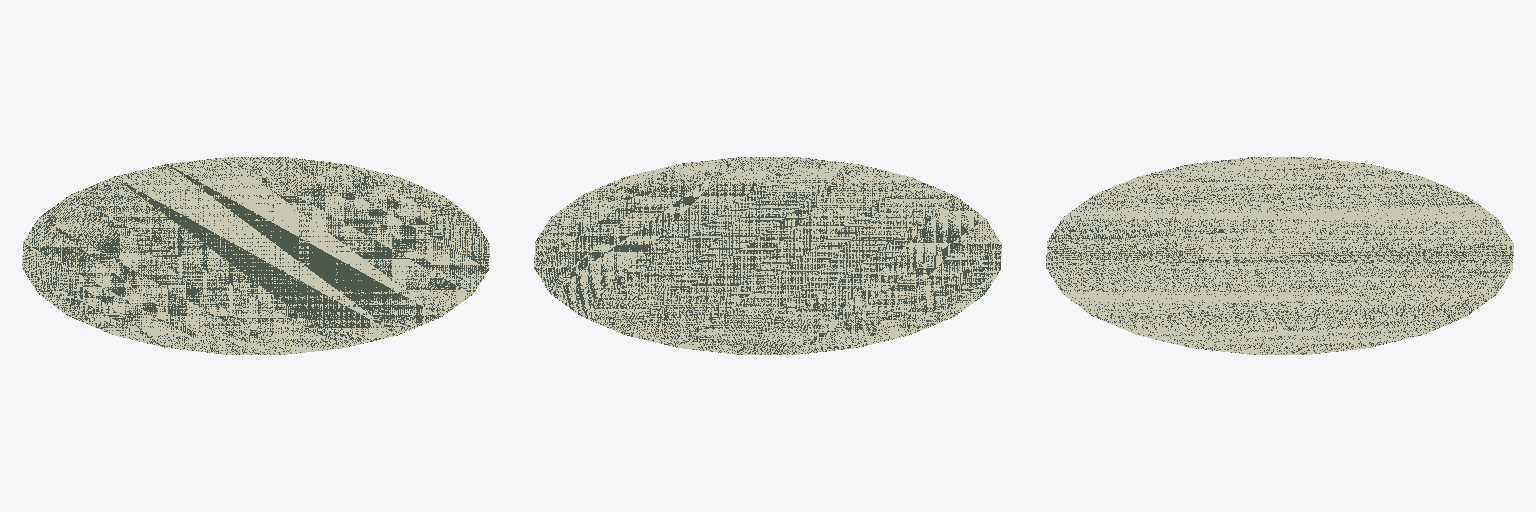
The model's file is Rug.obj.
The picture shows the model from 3 angles: view 1: azimuth 30°, elevation 25°; view 2: azimuth 150°, elevation 25°; view 3: azimuth 270°, elevation 25°; orthographic projection.
Visible parts, largest first — view 1: Mesh1 Model; view 2: Mesh1 Model; view 3: Mesh1 Model.
Boxes of the visible parts, <box> form: Mesh1 Model: <box>22,157,489,354</box>; Mesh1 Model: <box>534,157,1001,354</box>; Mesh1 Model: <box>1046,157,1513,354</box>.
Bounding box in the file's own units: 3.02 × 0 × 3.02.